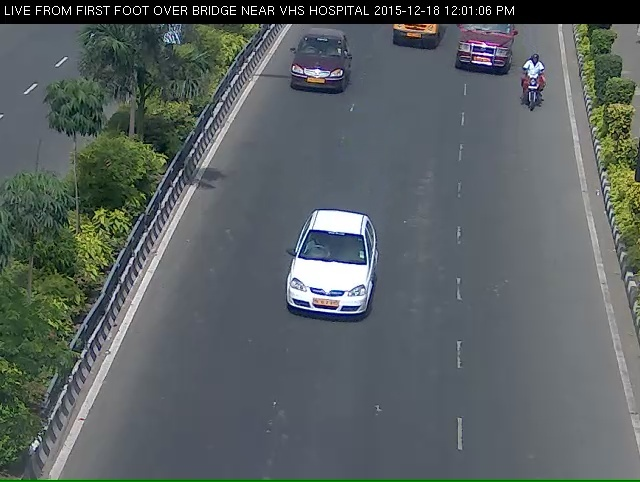Car: (278, 225, 369, 340), (287, 34, 346, 98), (453, 24, 514, 77)
Person: (516, 56, 548, 120)
